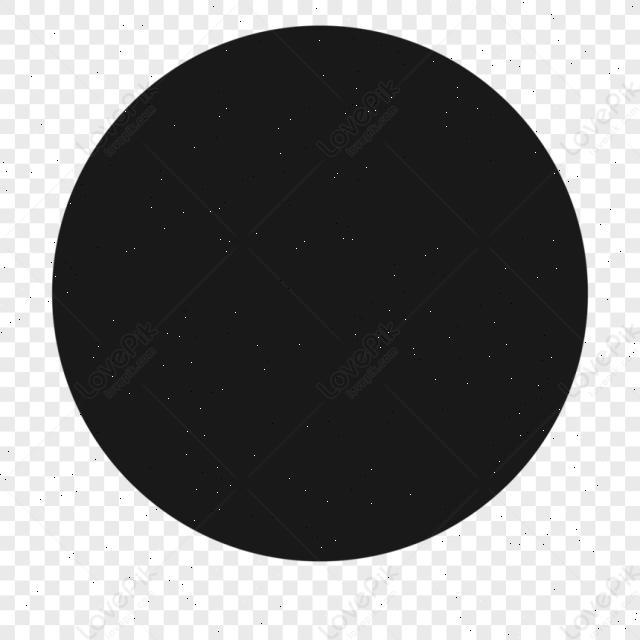Circle: (51, 26, 590, 564)
